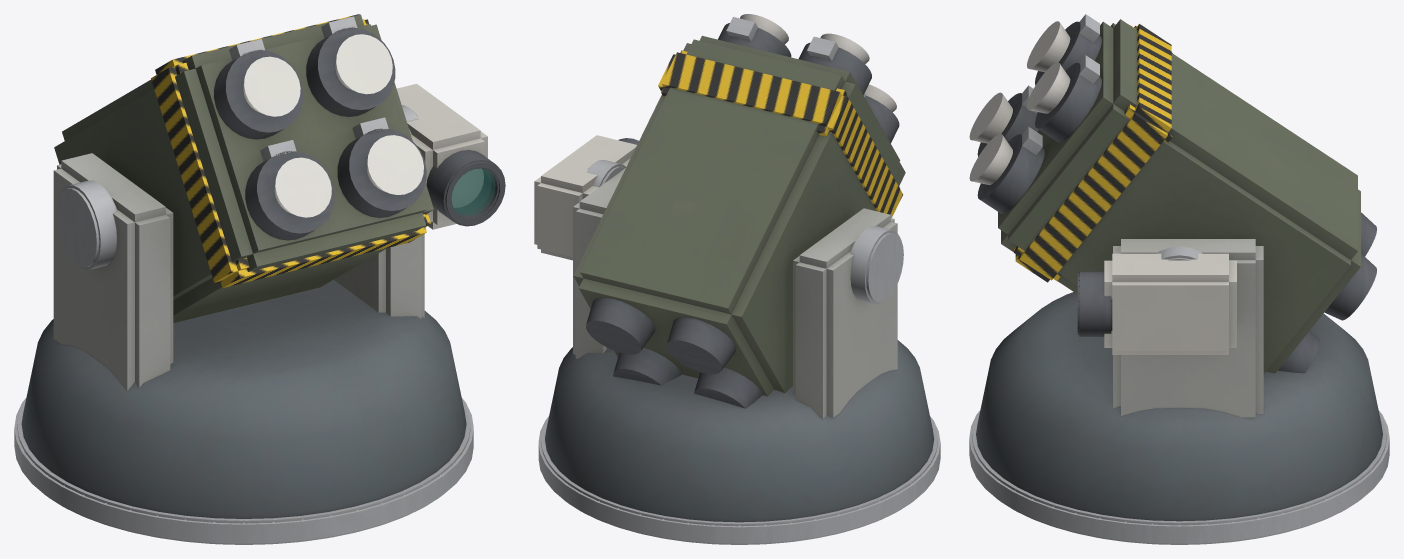
Rendered from att_pdc_interceptor.glb.
The picture shows the model from 3 angles, left to right: view 1: azimuth 30°, elevation 25°; view 2: azimuth 150°, elevation 25°; view 3: azimuth 270°, elevation 25°; orthographic projection. The views are drawn at different scales.
Visible parts, largest first — view 1: TEX_PDC_Interceptor_Mesh, Interceptor_TrackerLens_Glass.001; view 2: TEX_PDC_Interceptor_Mesh; view 3: TEX_PDC_Interceptor_Mesh.
Part boxes in pixels (x1,y1,x2,y2): TEX_PDC_Interceptor_Mesh: [14, 14, 505, 544]; Interceptor_TrackerLens_Glass.001: [451, 168, 495, 215]; TEX_PDC_Interceptor_Mesh: [534, 14, 940, 544]; TEX_PDC_Interceptor_Mesh: [969, 14, 1389, 544].
Size of the model in its own units: 0.97 by 1.04 by 0.95.
Materials: 2 (1 with a texture image).
